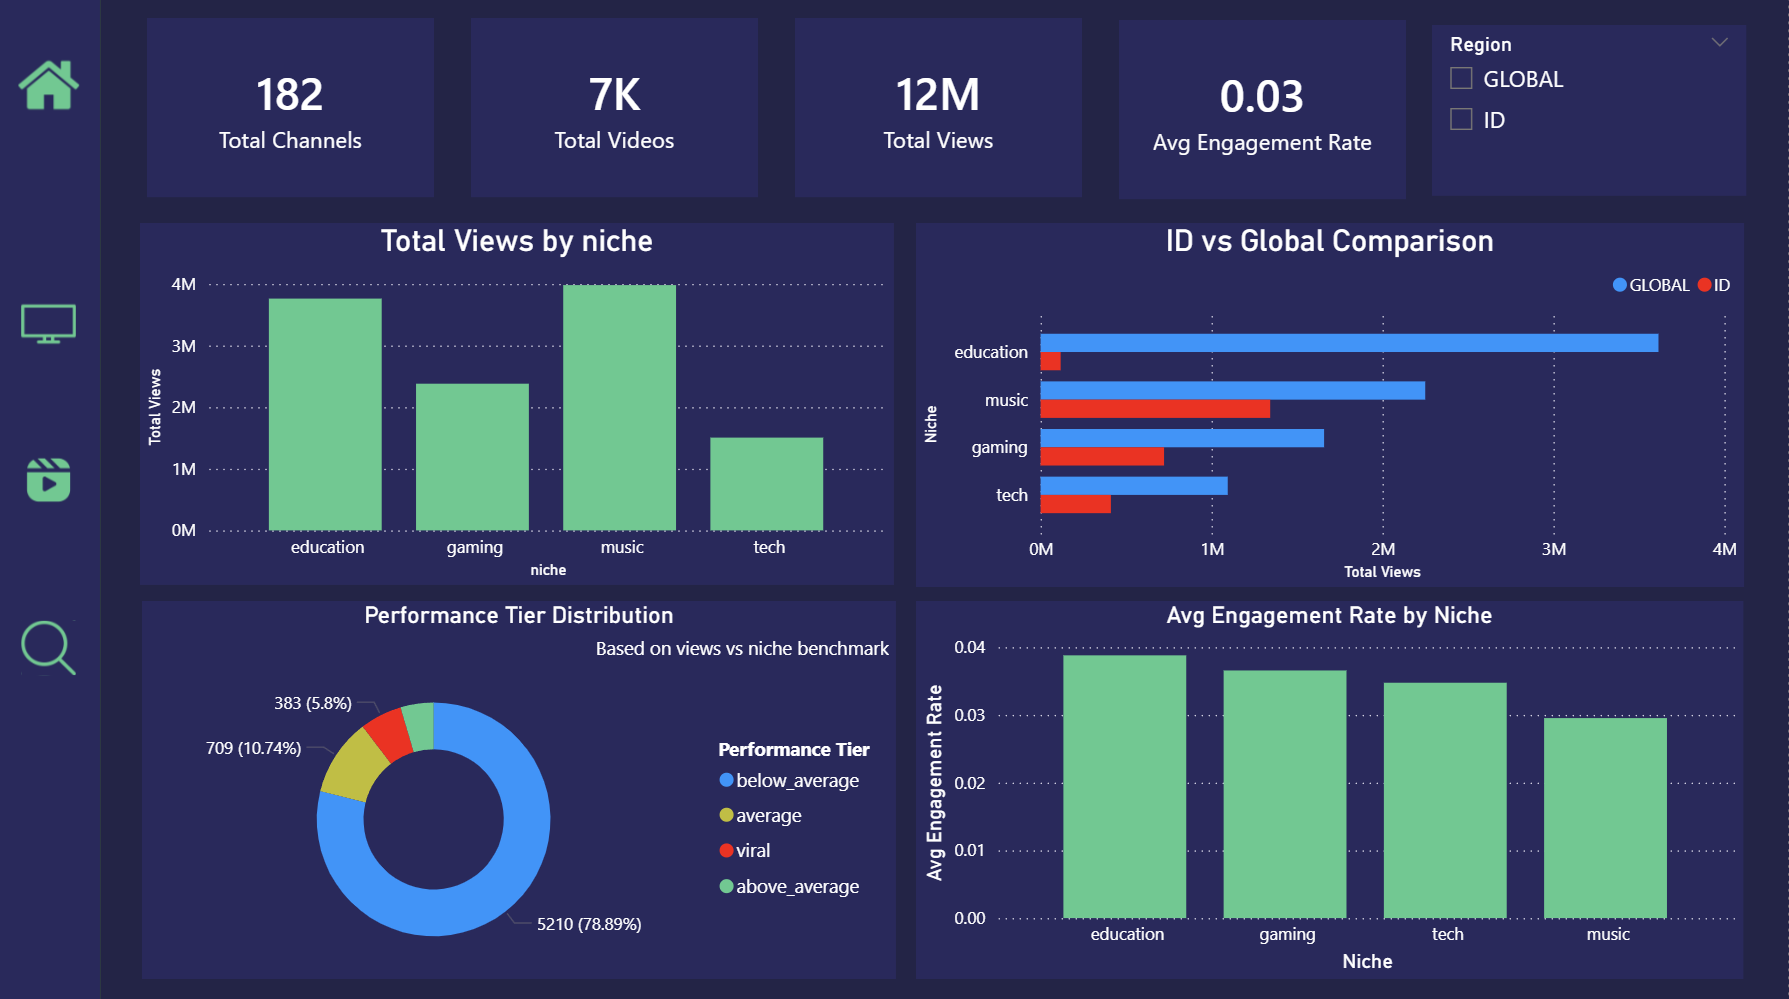

Layout of this report page (visuals, bound fields, positions):
{"tool":"powerbi","page":{"name":"Overview","canvas":[1280,720],"ordinal":0},"visuals":[{"type":"shape","box":[0,0,75.2,720.3],"z":0},{"type":"actionButton","box":[0,212.9,75.2,47.2],"z":1000},{"type":"actionButton","box":[0,323.8,75.2,47.2],"z":2000},{"type":"actionButton","box":[0,443.7,75.2,47.2],"z":3000},{"type":"cardVisual","fields":{"Data":["fct_video_performance.Total Channels"]},"box":[102.9,13.4,215.5,139],"z":4000},{"type":"cardVisual","fields":{"Data":["fct_video_performance.Total Videos"]},"box":[333.6,13.4,215.5,139],"z":5000},{"type":"cardVisual","fields":{"Data":["fct_video_performance.Total Views"]},"box":[565.6,13.4,215.5,139],"z":6000},{"type":"cardVisual","fields":{"Data":["fct_video_performance.Avg Engagement Rate"]},"box":[797.7,14.7,215.5,139],"z":7000},{"type":"clusteredColumnChart","fields":{"Y":["fct_video_performance.Total Views"],"Category":["fct_video_performance.niche"]},"box":[103.6,164.2,538.6,258.6],"z":8000},{"type":"clusteredBarChart","title":"ID vs Global Comparison","fields":{"Category":["dim_channels.niche"],"Series":["dim_channels.region"],"Y":["fct_video_performance.Total Views"]},"box":[657.1,164,591.4,260],"z":9000},{"type":"donutChart","title":"Performance Tier Distribution ","fields":{"Category":["fct_video_performance.performance_tier"],"Y":["fct_video_performance.Total Videos"]},"box":[104.3,434.3,538.6,270],"z":10000},{"type":"clusteredColumnChart","title":"Avg Engagement Rate by Niche","fields":{"Category":["dim_channels.niche"],"Y":["fct_video_performance.Avg Engagement Rate"]},"box":[657,434,591,270],"z":11000},{"type":"slicer","fields":{"Values":["dim_channels.region"]},"box":[1025.6,22.2,224.4,122.2],"z":12000},{"type":"actionButton","box":[0,40,75.7,51.4],"z":12001}]}

Visuals, with their boxes on the page's 1280x720 design canvas (x1, y1, x2, y2). These are canvas units, not pixel positions in the 1789x999 screenshot, which may show the page scaled, cropped or inside an application window:
shape: x1=0 y1=0 x2=75 y2=720
actionButton: x1=0 y1=213 x2=75 y2=260
actionButton: x1=0 y1=324 x2=75 y2=371
actionButton: x1=0 y1=444 x2=75 y2=491
cardVisual - fct_video_performance.Total Channels: x1=103 y1=13 x2=318 y2=152
cardVisual - fct_video_performance.Total Videos: x1=334 y1=13 x2=549 y2=152
cardVisual - fct_video_performance.Total Views: x1=566 y1=13 x2=781 y2=152
cardVisual - fct_video_performance.Avg Engagement Rate: x1=798 y1=15 x2=1013 y2=154
clusteredColumnChart - fct_video_performance.Total Views x fct_video_performance.niche: x1=104 y1=164 x2=642 y2=423
"ID vs Global Comparison" clusteredBarChart: x1=657 y1=164 x2=1248 y2=424
"Performance Tier Distribution " donutChart: x1=104 y1=434 x2=643 y2=704
"Avg Engagement Rate by Niche" clusteredColumnChart: x1=657 y1=434 x2=1248 y2=704
slicer - dim_channels.region: x1=1026 y1=22 x2=1250 y2=144
actionButton: x1=0 y1=40 x2=76 y2=91
